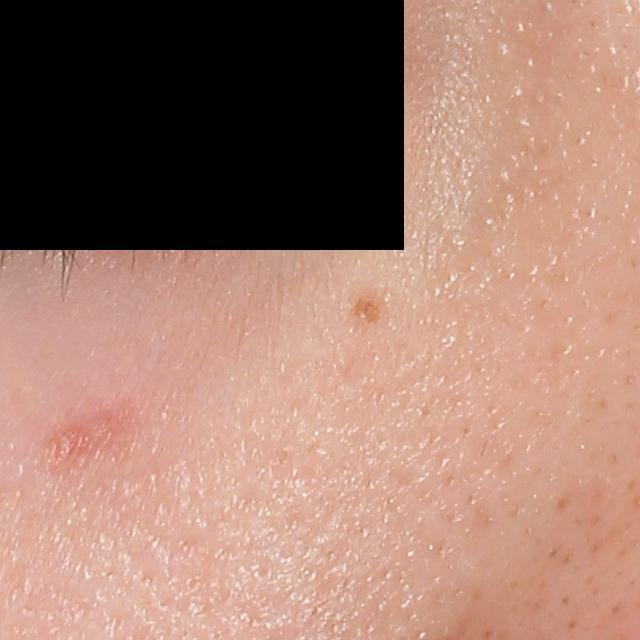nevus: (351, 295, 382, 324)
